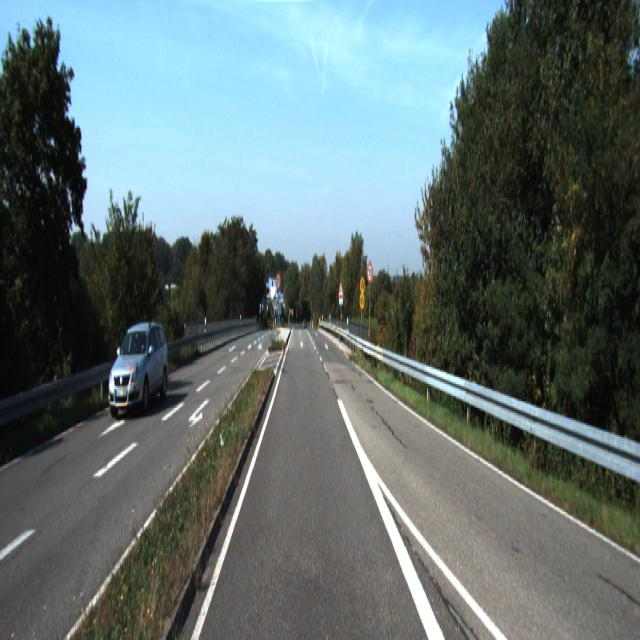Car: (102, 319, 170, 417)
